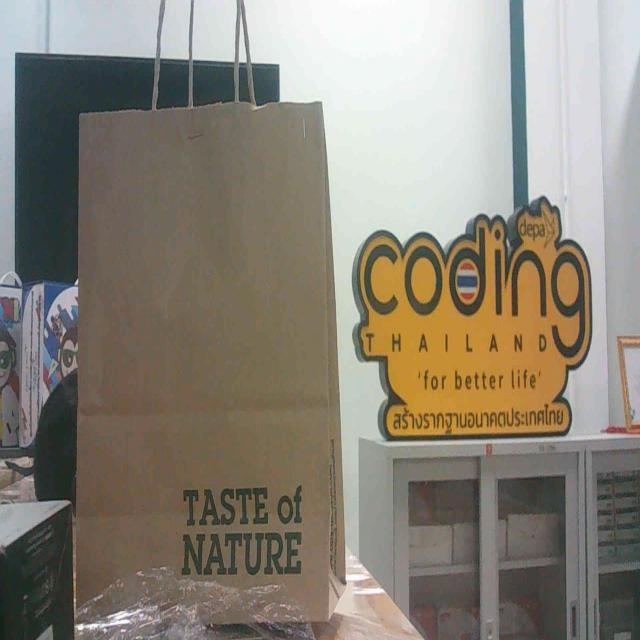bag: (70, 60, 370, 640)
